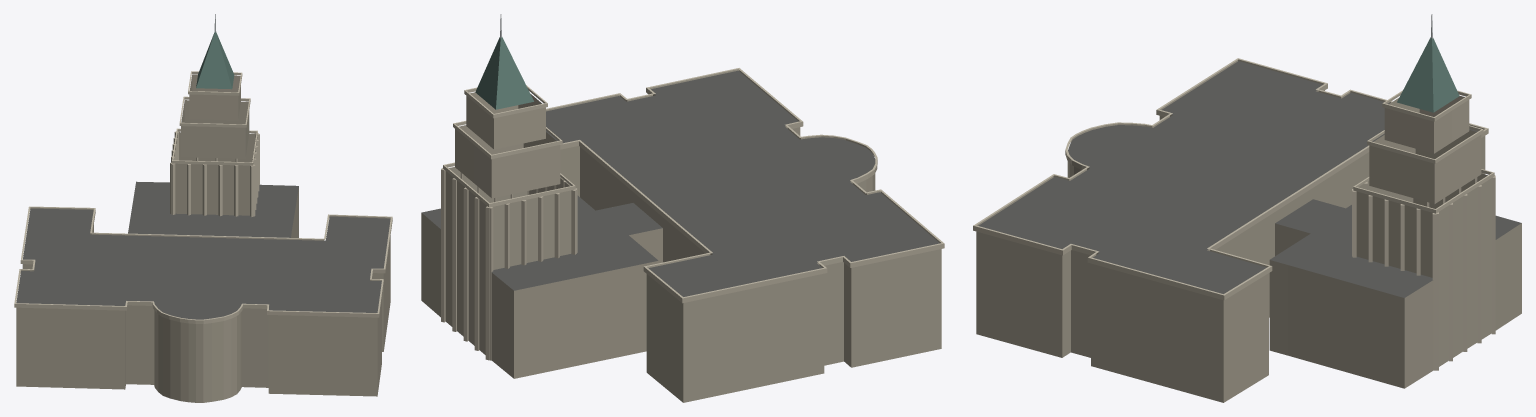
The model's file is atlanta-city-hall.glb.
3 renders of one model, left to right at view 1: azimuth 30°, elevation 25°; view 2: azimuth 150°, elevation 25°; view 3: azimuth 270°, elevation 25°, orthographic. The views are drawn at different scales.
Visible parts, largest first — view 1: lod0_bld_wall, lod0_bld_roof, lod1_lm_stone, lod0_lm_flood, lod1_lm_flood, lod0_lm_metal; view 2: lod0_bld_wall, lod0_bld_roof, lod0_lm_flood, lod1_lm_stone, lod1_lm_flood, lod0_lm_metal; view 3: lod0_bld_wall, lod0_bld_roof, lod0_lm_flood, lod1_lm_stone, lod1_lm_flood, lod0_lm_metal.
Part boxes in pixels (x1,y1,x2,y2): lod0_bld_wall: (16,74,390,402); lod0_bld_roof: (16,208,390,319); lod1_lm_stone: (128,23,298,237); lod0_lm_flood: (14,72,392,323); lod1_lm_flood: (22,71,382,317); lod0_lm_metal: (196,14,234,88); lod0_bld_wall: (421,92,941,402); lod0_bld_roof: (546,70,939,296); lod0_lm_flood: (441,68,944,360); lod1_lm_stone: (421,14,662,290); lod1_lm_flood: (443,69,944,303); lod0_lm_metal: (481,18,530,109); lod0_bld_wall: (976,90,1521,402); lod0_bld_roof: (978,61,1477,293); lod0_lm_flood: (973,58,1495,370); lod1_lm_stone: (1270,14,1521,297); lod1_lm_flood: (976,60,1494,299); lod0_lm_metal: (1397,14,1459,112).
Size of the model in its own units: 124 by 79.6 by 121.
